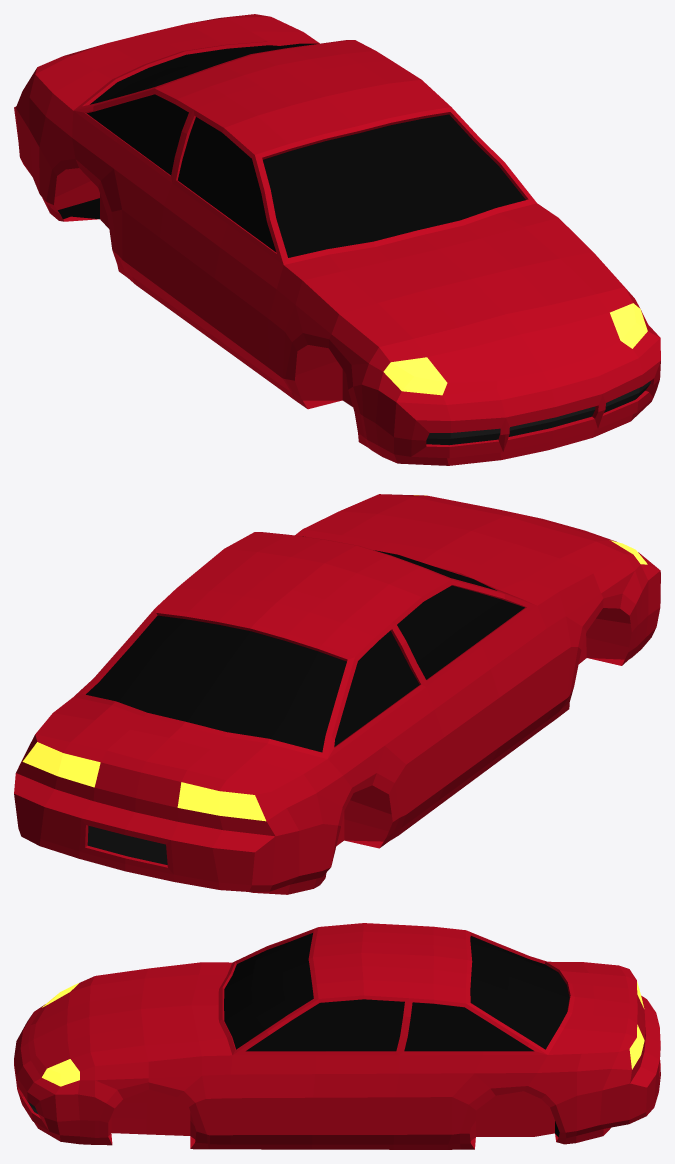
Rendered from car200.glb.
3 renders of one model, top to bottom at view 1: azimuth 30°, elevation 25°; view 2: azimuth 150°, elevation 25°; view 3: azimuth 270°, elevation 25°, orthographic. The views are drawn at different scales.
Visible parts, largest first — view 1: car.002; view 2: car.002; view 3: car.002.
Boxes of the visible parts, <box> form: car.002: <box>14,14,660,465</box>; car.002: <box>14,494,660,894</box>; car.002: <box>14,923,660,1149</box>.
Bounding box in the file's own units: 1.73 × 1.15 × 4.52.
